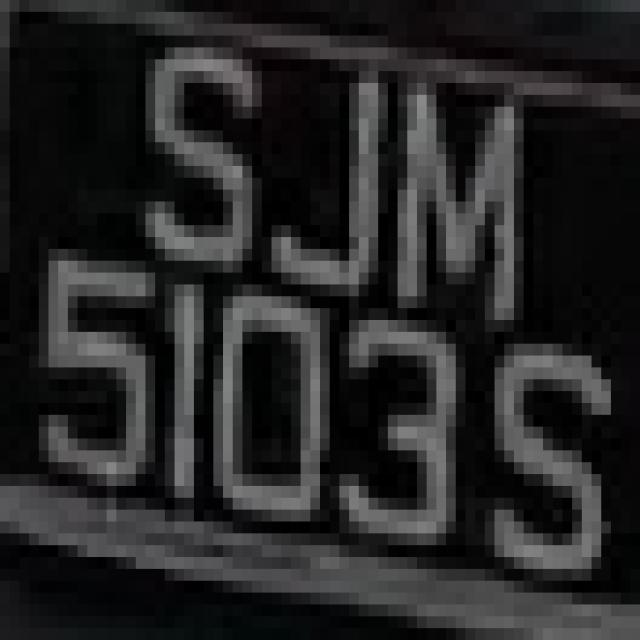0: (194, 261, 339, 557)
1: (155, 237, 223, 522)
3: (339, 260, 485, 580)
5: (20, 225, 156, 522)
J: (272, 59, 368, 320)
M: (368, 47, 534, 332)
S: (136, 24, 281, 284), (485, 296, 611, 593)
